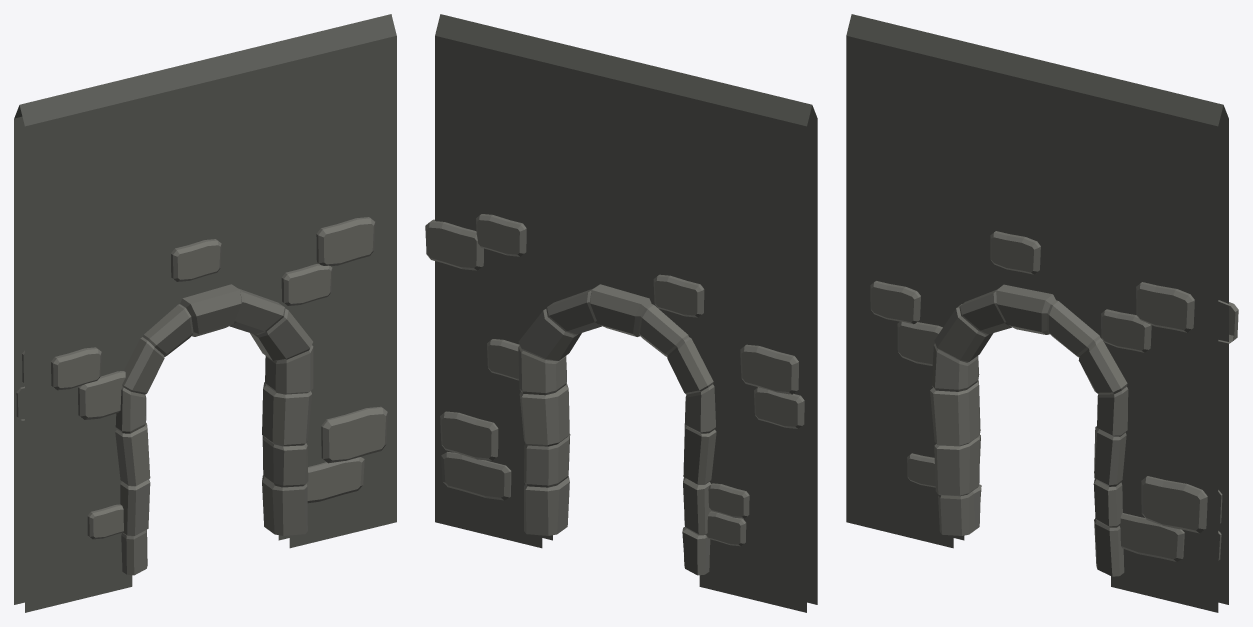
Rendered from Dungeon_Passage.glb.
3 views of the same model, side by side, from view 1: azimuth 30°, elevation 25°; view 2: azimuth 150°, elevation 25°; view 3: azimuth 330°, elevation 25° (orthographic).
Parts seen in each view (by area): view 1: Dungeon_Passage; view 2: Dungeon_Passage; view 3: Dungeon_Passage.
Part boxes in pixels (x1,y1,x2,y2): Dungeon_Passage: [14, 14, 396, 612]; Dungeon_Passage: [425, 14, 817, 612]; Dungeon_Passage: [846, 14, 1238, 612].
Size of the model in its own units: 4.08 by 5.18 by 0.6011.
Materials: 1 (1 with a texture image).
